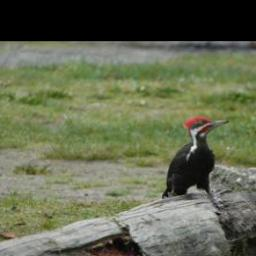Woodpecker: (161, 111, 231, 203)
